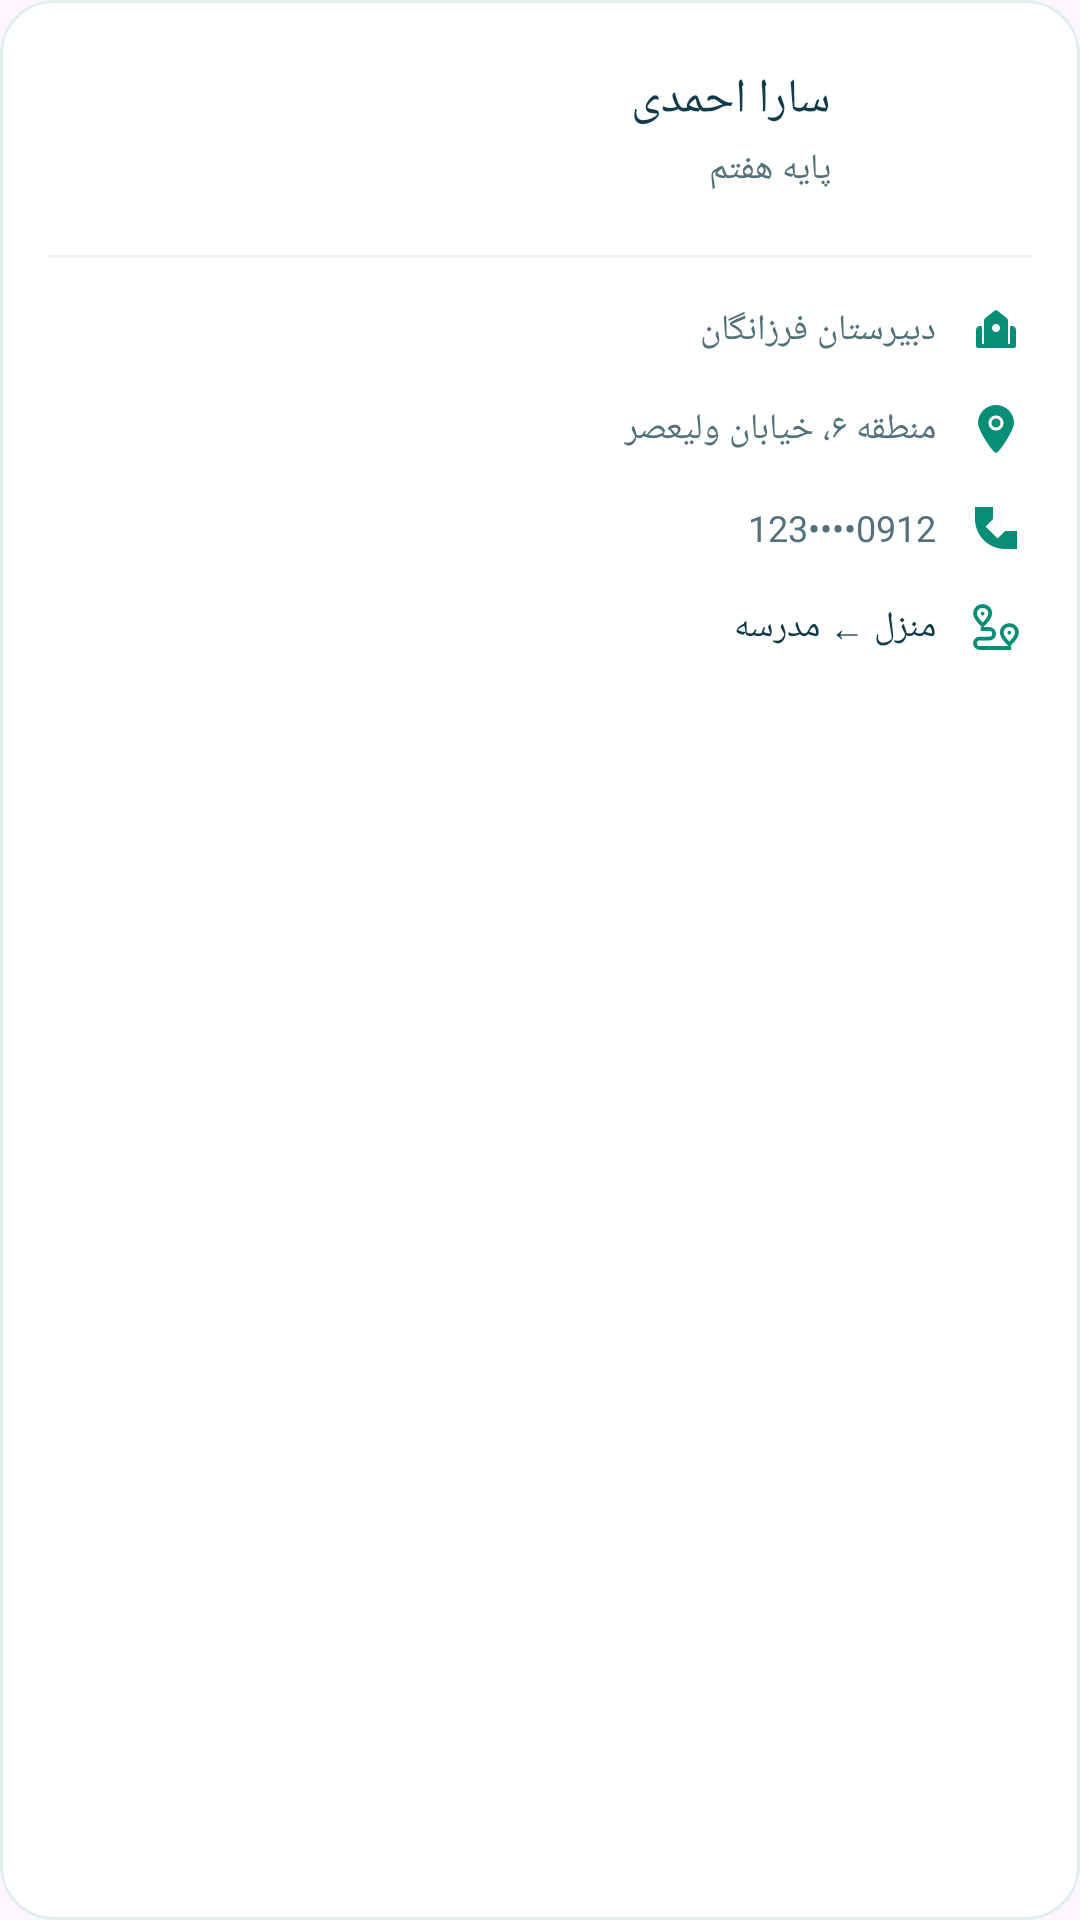

Icon click points for this 1080px×1920px phone screenshot, format (x,y):
آدرس: (996,429)
شماره تماس: (996,528)
مدرسه: (996,329)
مسیر: (996,627)
